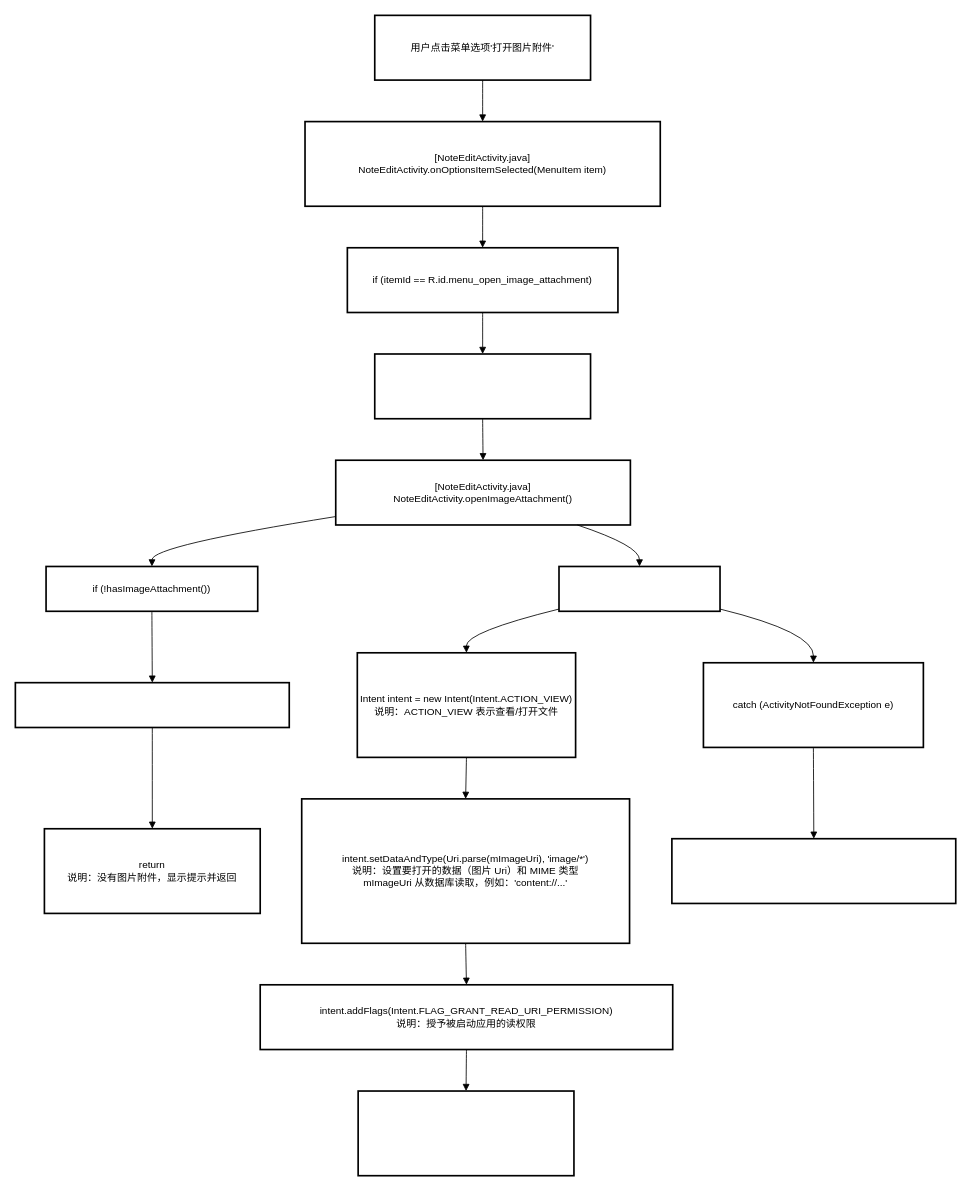
Image size: 970x1190. Some labels were removed from this diagram. Each missing label, with the centre of its shape:
"showToast(R.string.image_not_found)" belongs at point (152, 704).
"showToast(R.string.image_open_failed) 说明：如果系统没有安装图片查看应用" belongs at point (813, 870).
"startActivity(intent) 说明：启动系统的图片查看器应用" belongs at point (465, 1133).
"try-catch 异常处理" belongs at point (639, 588).
"调用 openImageAttachment()" belongs at point (482, 386).
